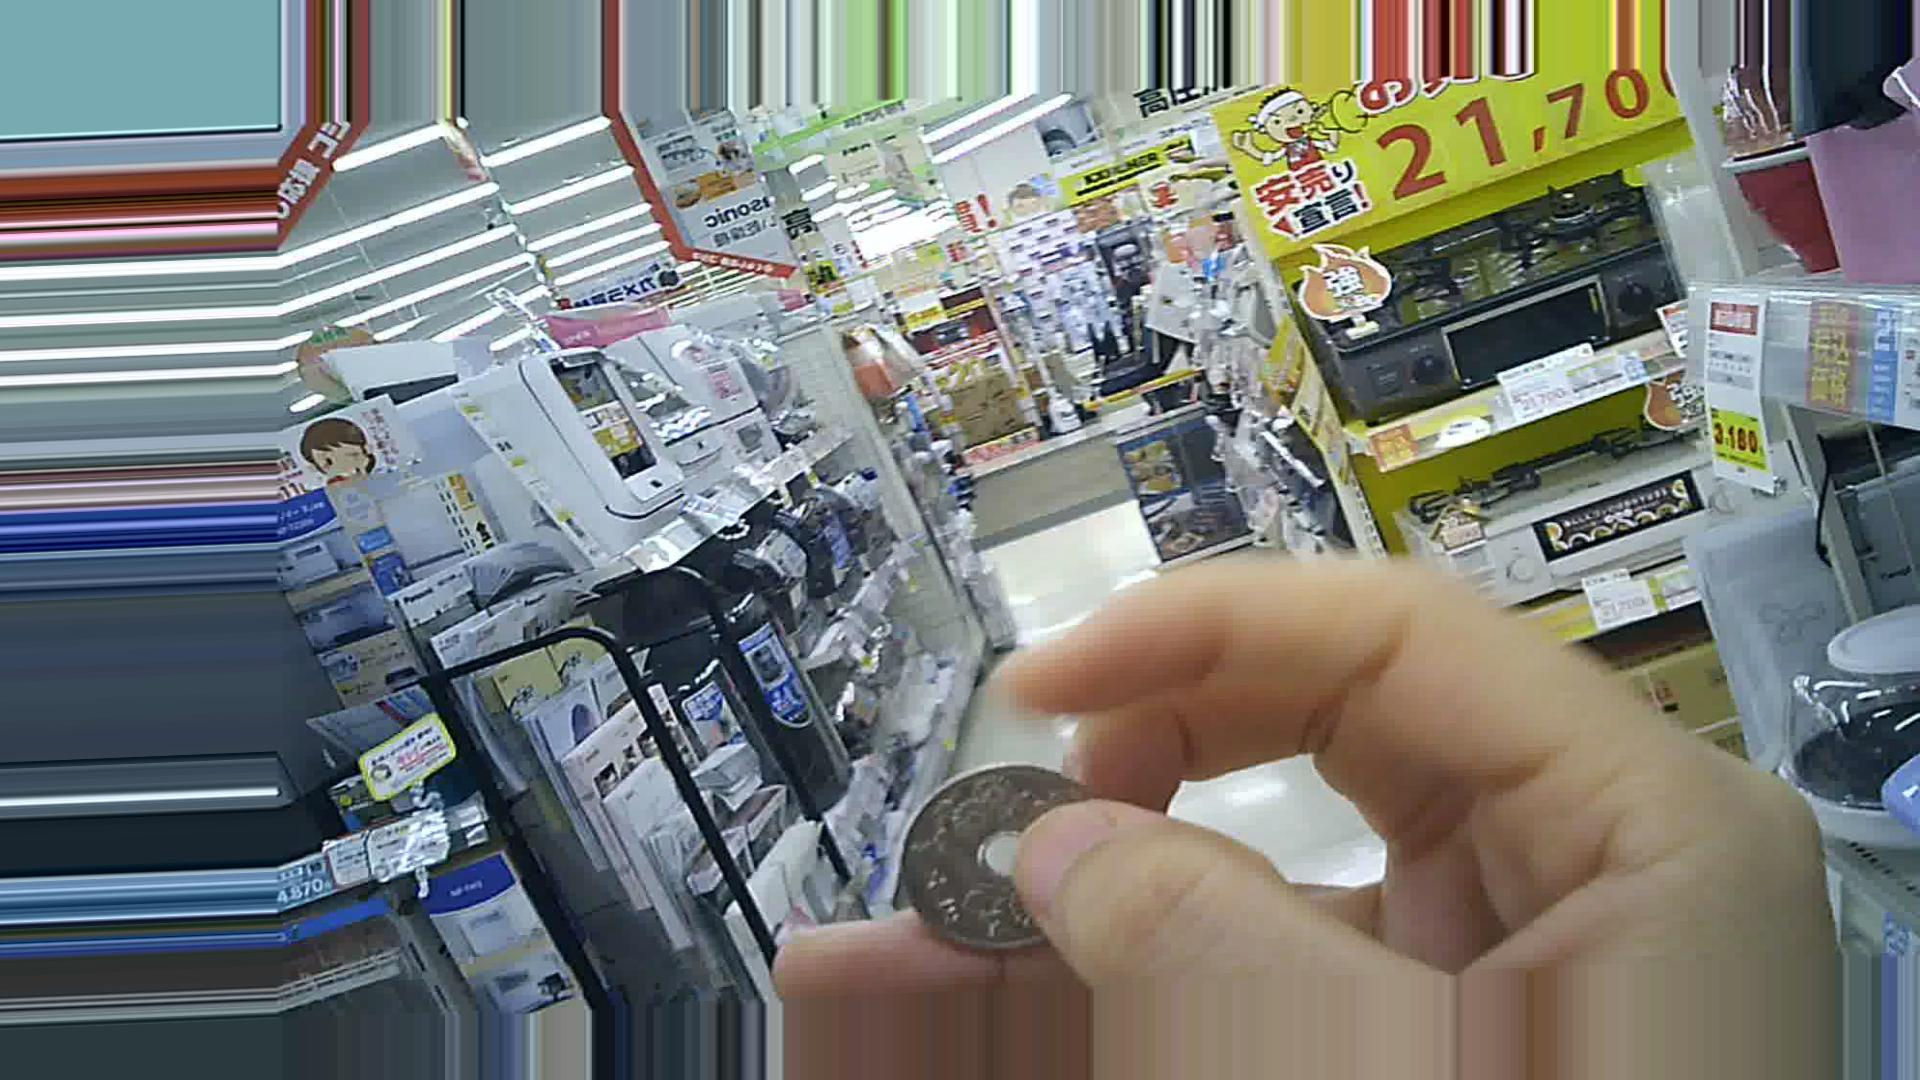50 Yen: (890, 749, 1083, 961)
